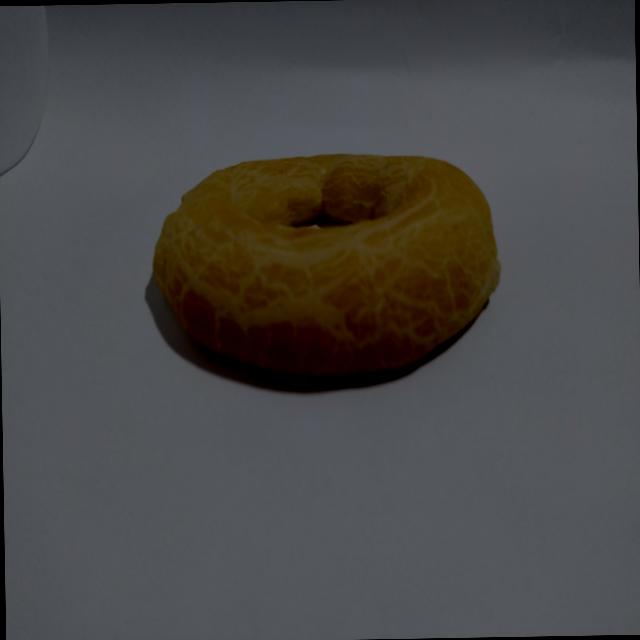Chipa: (142, 136, 512, 404)
